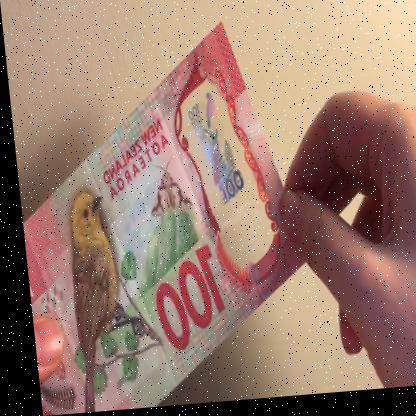100B: (180, 87, 244, 210)
